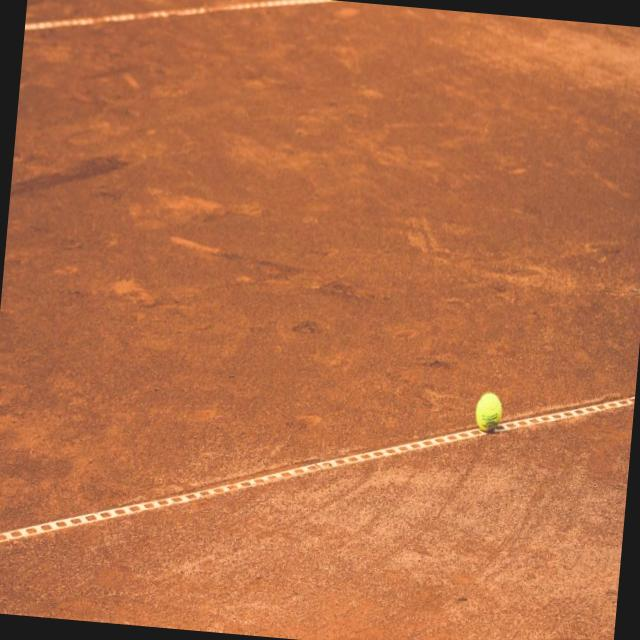Tennis Ball: (472, 392, 503, 436)
